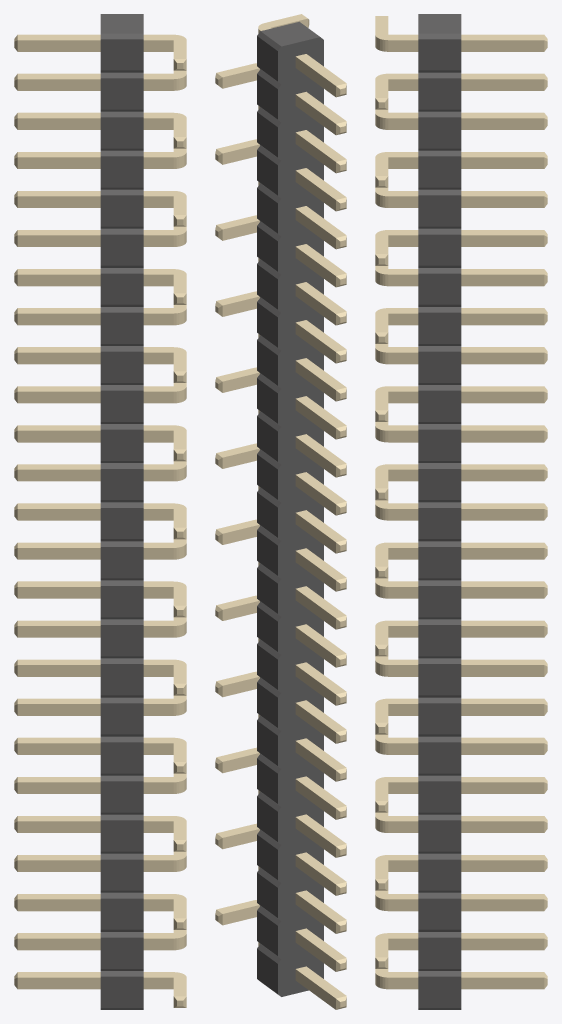
Rendered from PinHeader_1x25_P1.00mm_Vertical_SMD_Pin1Right.glb.
3 renders of one model, left to right at view 1: azimuth 90°, elevation 25°; view 2: azimuth 210°, elevation 25°; view 3: azimuth 270°, elevation 25°, orthographic. The views are drawn at different scales.
Parts seen in each view (by area): view 1: Shape_IndexedFaceSet.013, Shape_IndexedFaceSet.019, Shape_IndexedFaceSet.025, Shape_IndexedFaceSet.031, Shape_IndexedFaceSet.115, Shape_IndexedFaceSet.121, Shape_IndexedFaceSet.127, Shape_IndexedFaceSet.007, Shape_IndexedFaceSet.037, Shape_IndexedFaceSet.043, Shape_IndexedFaceSet.049, Shape_IndexedFaceSet.055 (+77 smaller); view 2: Shape_IndexedFaceSet.004, Shape_IndexedFaceSet.001, Shape_IndexedFaceSet.082, Shape_IndexedFaceSet.118, Shape_IndexedFaceSet.124, Shape_IndexedFaceSet.142, Shape_IndexedFaceSet.010, Shape_IndexedFaceSet.022, Shape_IndexedFaceSet.064, Shape_IndexedFaceSet.070, Shape_IndexedFaceSet.100, Shape_IndexedFaceSet.106 (+77 smaller); view 3: Shape_IndexedFaceSet.010, Shape_IndexedFaceSet.016, Shape_IndexedFaceSet.022, Shape_IndexedFaceSet.028, Shape_IndexedFaceSet.112, Shape_IndexedFaceSet.118, Shape_IndexedFaceSet.124, Shape_IndexedFaceSet.002, Shape_IndexedFaceSet.034, Shape_IndexedFaceSet.040, Shape_IndexedFaceSet.046, Shape_IndexedFaceSet.052 (+77 smaller).
Boxes of the visible parts, x1=… form: Shape_IndexedFaceSet.013: x1=100, y1=78, x2=143, y2=109; Shape_IndexedFaceSet.019: x1=100, y1=117, x2=143, y2=148; Shape_IndexedFaceSet.025: x1=100, y1=156, x2=143, y2=187; Shape_IndexedFaceSet.031: x1=100, y1=195, x2=143, y2=226; Shape_IndexedFaceSet.115: x1=100, y1=742, x2=143, y2=773; Shape_IndexedFaceSet.121: x1=100, y1=781, x2=143, y2=812; Shape_IndexedFaceSet.127: x1=100, y1=820, x2=143, y2=851; Shape_IndexedFaceSet.007: x1=100, y1=39, x2=143, y2=70; Shape_IndexedFaceSet.037: x1=100, y1=234, x2=143, y2=265; Shape_IndexedFaceSet.043: x1=100, y1=273, x2=143, y2=304; Shape_IndexedFaceSet.049: x1=100, y1=312, x2=143, y2=343; Shape_IndexedFaceSet.055: x1=100, y1=351, x2=143, y2=382; Shape_IndexedFaceSet.004: x1=278, y1=37, x2=323, y2=996; Shape_IndexedFaceSet.001: x1=261, y1=21, x2=319, y2=46; Shape_IndexedFaceSet.082: x1=257, y1=530, x2=277, y2=575; Shape_IndexedFaceSet.118: x1=257, y1=758, x2=277, y2=803; Shape_IndexedFaceSet.124: x1=257, y1=796, x2=277, y2=841; Shape_IndexedFaceSet.142: x1=257, y1=911, x2=277, y2=955; Shape_IndexedFaceSet.010: x1=257, y1=74, x2=277, y2=119; Shape_IndexedFaceSet.022: x1=257, y1=150, x2=277, y2=195; Shape_IndexedFaceSet.064: x1=257, y1=416, x2=277, y2=461; Shape_IndexedFaceSet.070: x1=257, y1=454, x2=277, y2=499; Shape_IndexedFaceSet.100: x1=257, y1=644, x2=277, y2=689; Shape_IndexedFaceSet.106: x1=257, y1=682, x2=277, y2=727; Shape_IndexedFaceSet.010: x1=418, y1=78, x2=461, y2=109; Shape_IndexedFaceSet.016: x1=418, y1=117, x2=461, y2=148; Shape_IndexedFaceSet.022: x1=418, y1=156, x2=461, y2=187; Shape_IndexedFaceSet.028: x1=418, y1=195, x2=461, y2=226; Shape_IndexedFaceSet.112: x1=418, y1=742, x2=461, y2=773; Shape_IndexedFaceSet.118: x1=418, y1=781, x2=461, y2=812; Shape_IndexedFaceSet.124: x1=418, y1=820, x2=461, y2=851; Shape_IndexedFaceSet.002: x1=418, y1=39, x2=461, y2=70; Shape_IndexedFaceSet.034: x1=418, y1=234, x2=461, y2=265; Shape_IndexedFaceSet.040: x1=418, y1=273, x2=461, y2=304; Shape_IndexedFaceSet.046: x1=418, y1=312, x2=461, y2=343; Shape_IndexedFaceSet.052: x1=418, y1=351, x2=461, y2=382.
Size of the model in its own units: 0.984 by 9.84 by 1.58.
